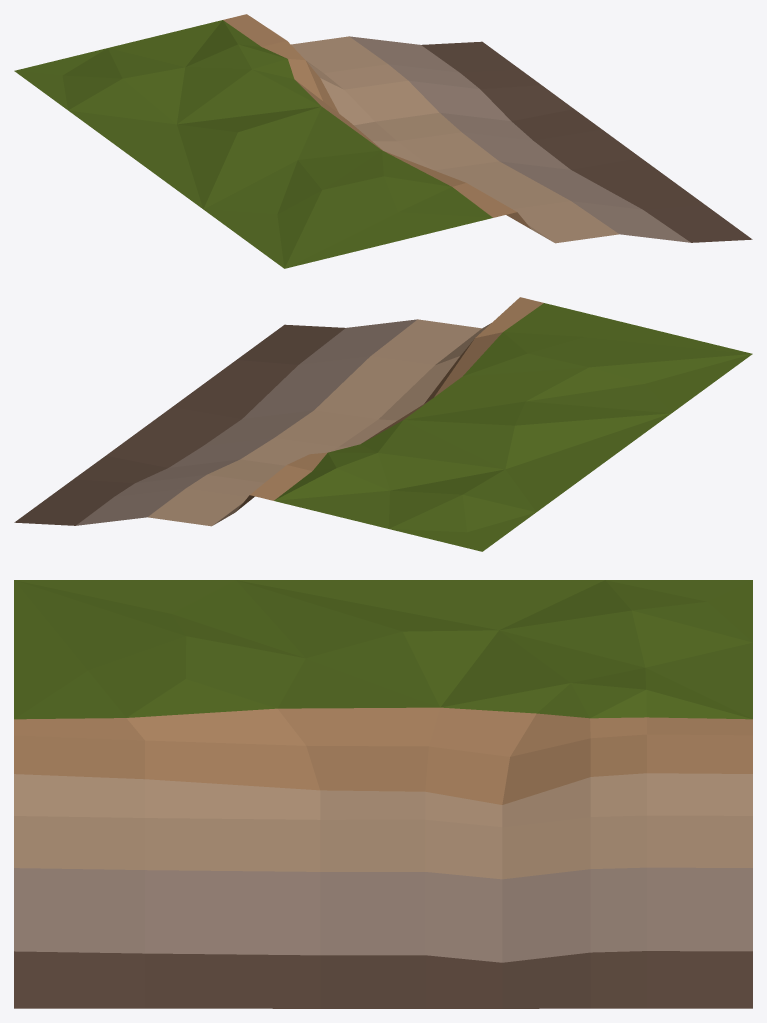
Rendered from TB_Env_Lakeside_B.FBX.
The picture shows the model from 3 angles, top to bottom: view 1: azimuth 30°, elevation 25°; view 2: azimuth 150°, elevation 25°; view 3: azimuth 270°, elevation 25°; orthographic projection. The views are drawn at different scales.
Visible parts, largest first — view 1: TB_Env_Lakeside_B; view 2: TB_Env_Lakeside_B; view 3: TB_Env_Lakeside_B.
Boxes of the visible parts, x1,y1,x2,y2 form: TB_Env_Lakeside_B: (14,14,752,268); TB_Env_Lakeside_B: (14,297,752,551); TB_Env_Lakeside_B: (14,580,752,1008).
Bounding box in the file's own units: 20 × 3.89 × 20.
